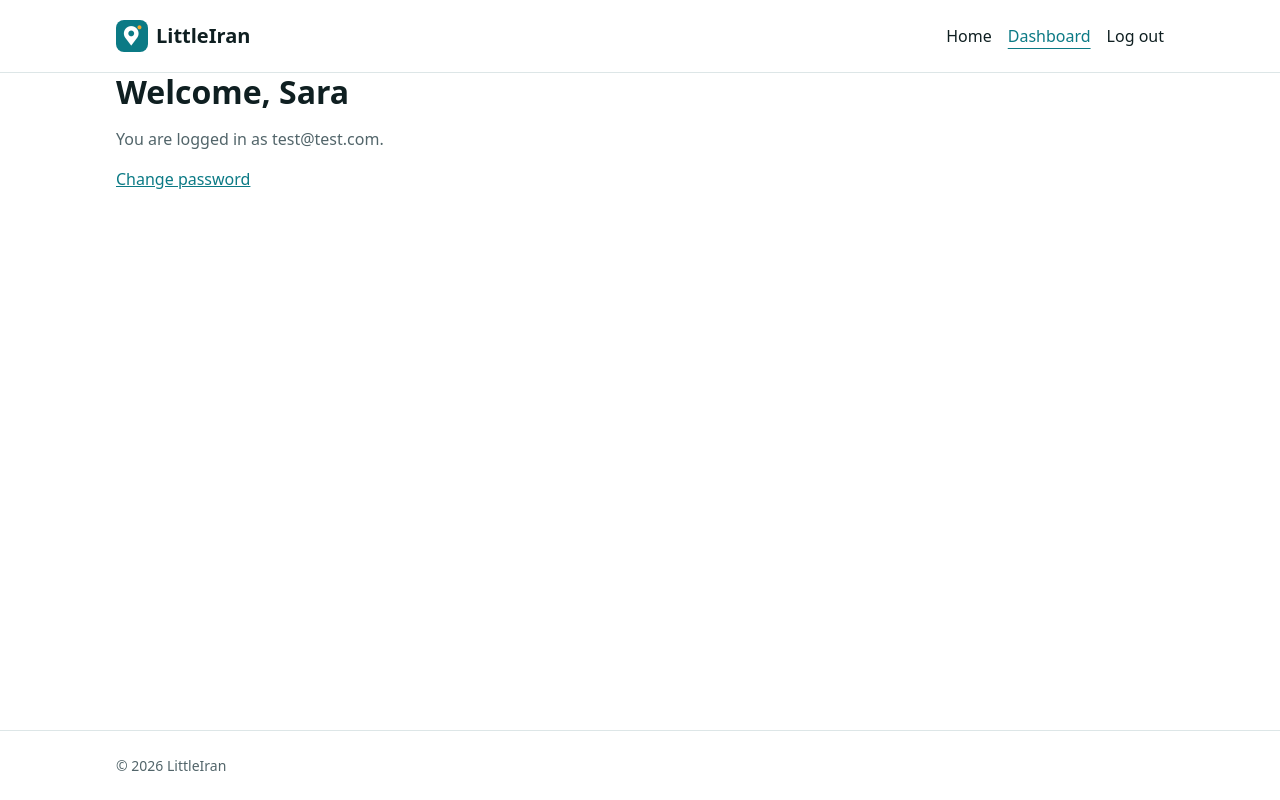
it: Logging out › ends the session and shows the logged-out navigation
What coordinates should you click on to do the following:
click the button "Log out"
I would click on:
 (1135, 36)
Its box is [1107,16,1164,56].
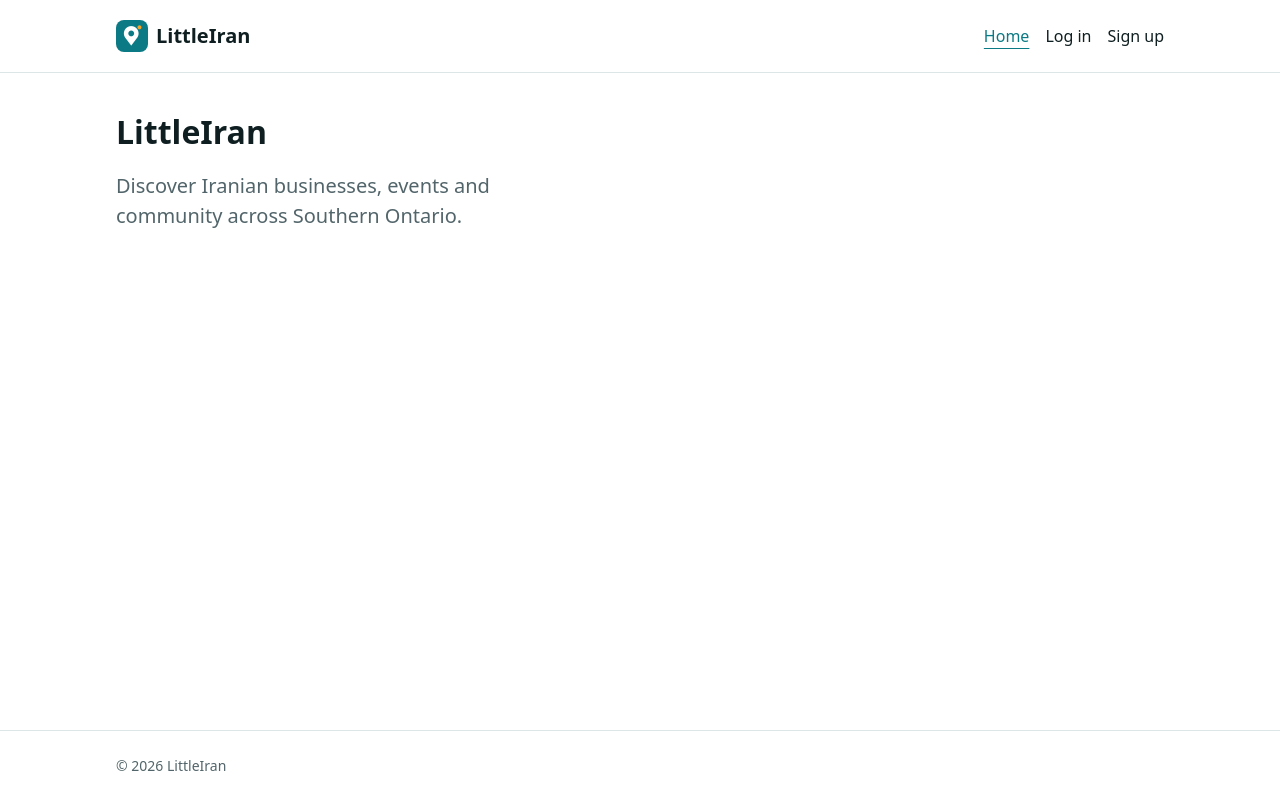
Check: the link "Log in" is shown, box [1045,25,1092,47]
Check: the link "Dashboard" is gone
